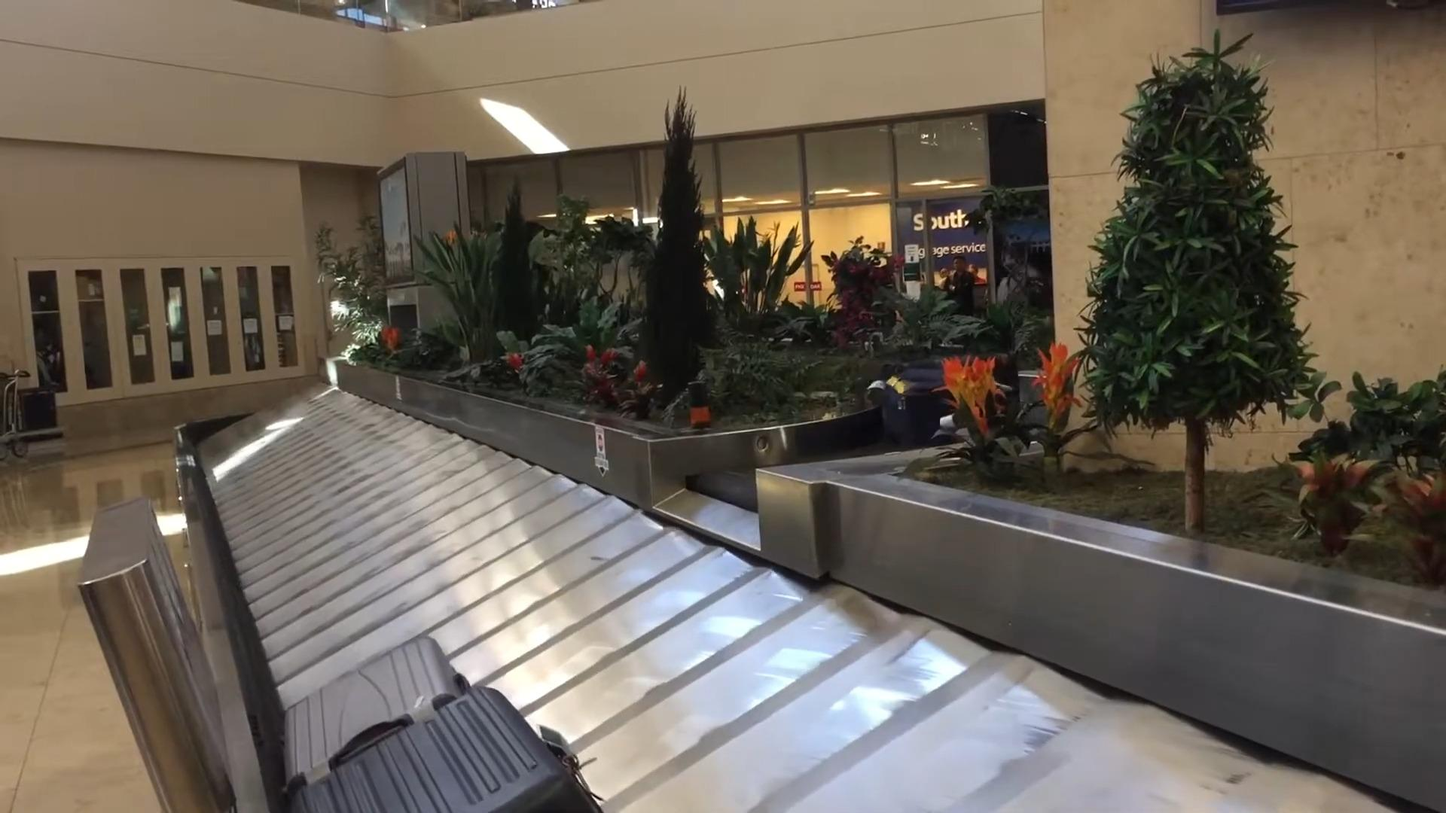luggage: (291, 683, 603, 813), (280, 636, 468, 796), (875, 355, 976, 444), (963, 349, 1021, 415)
